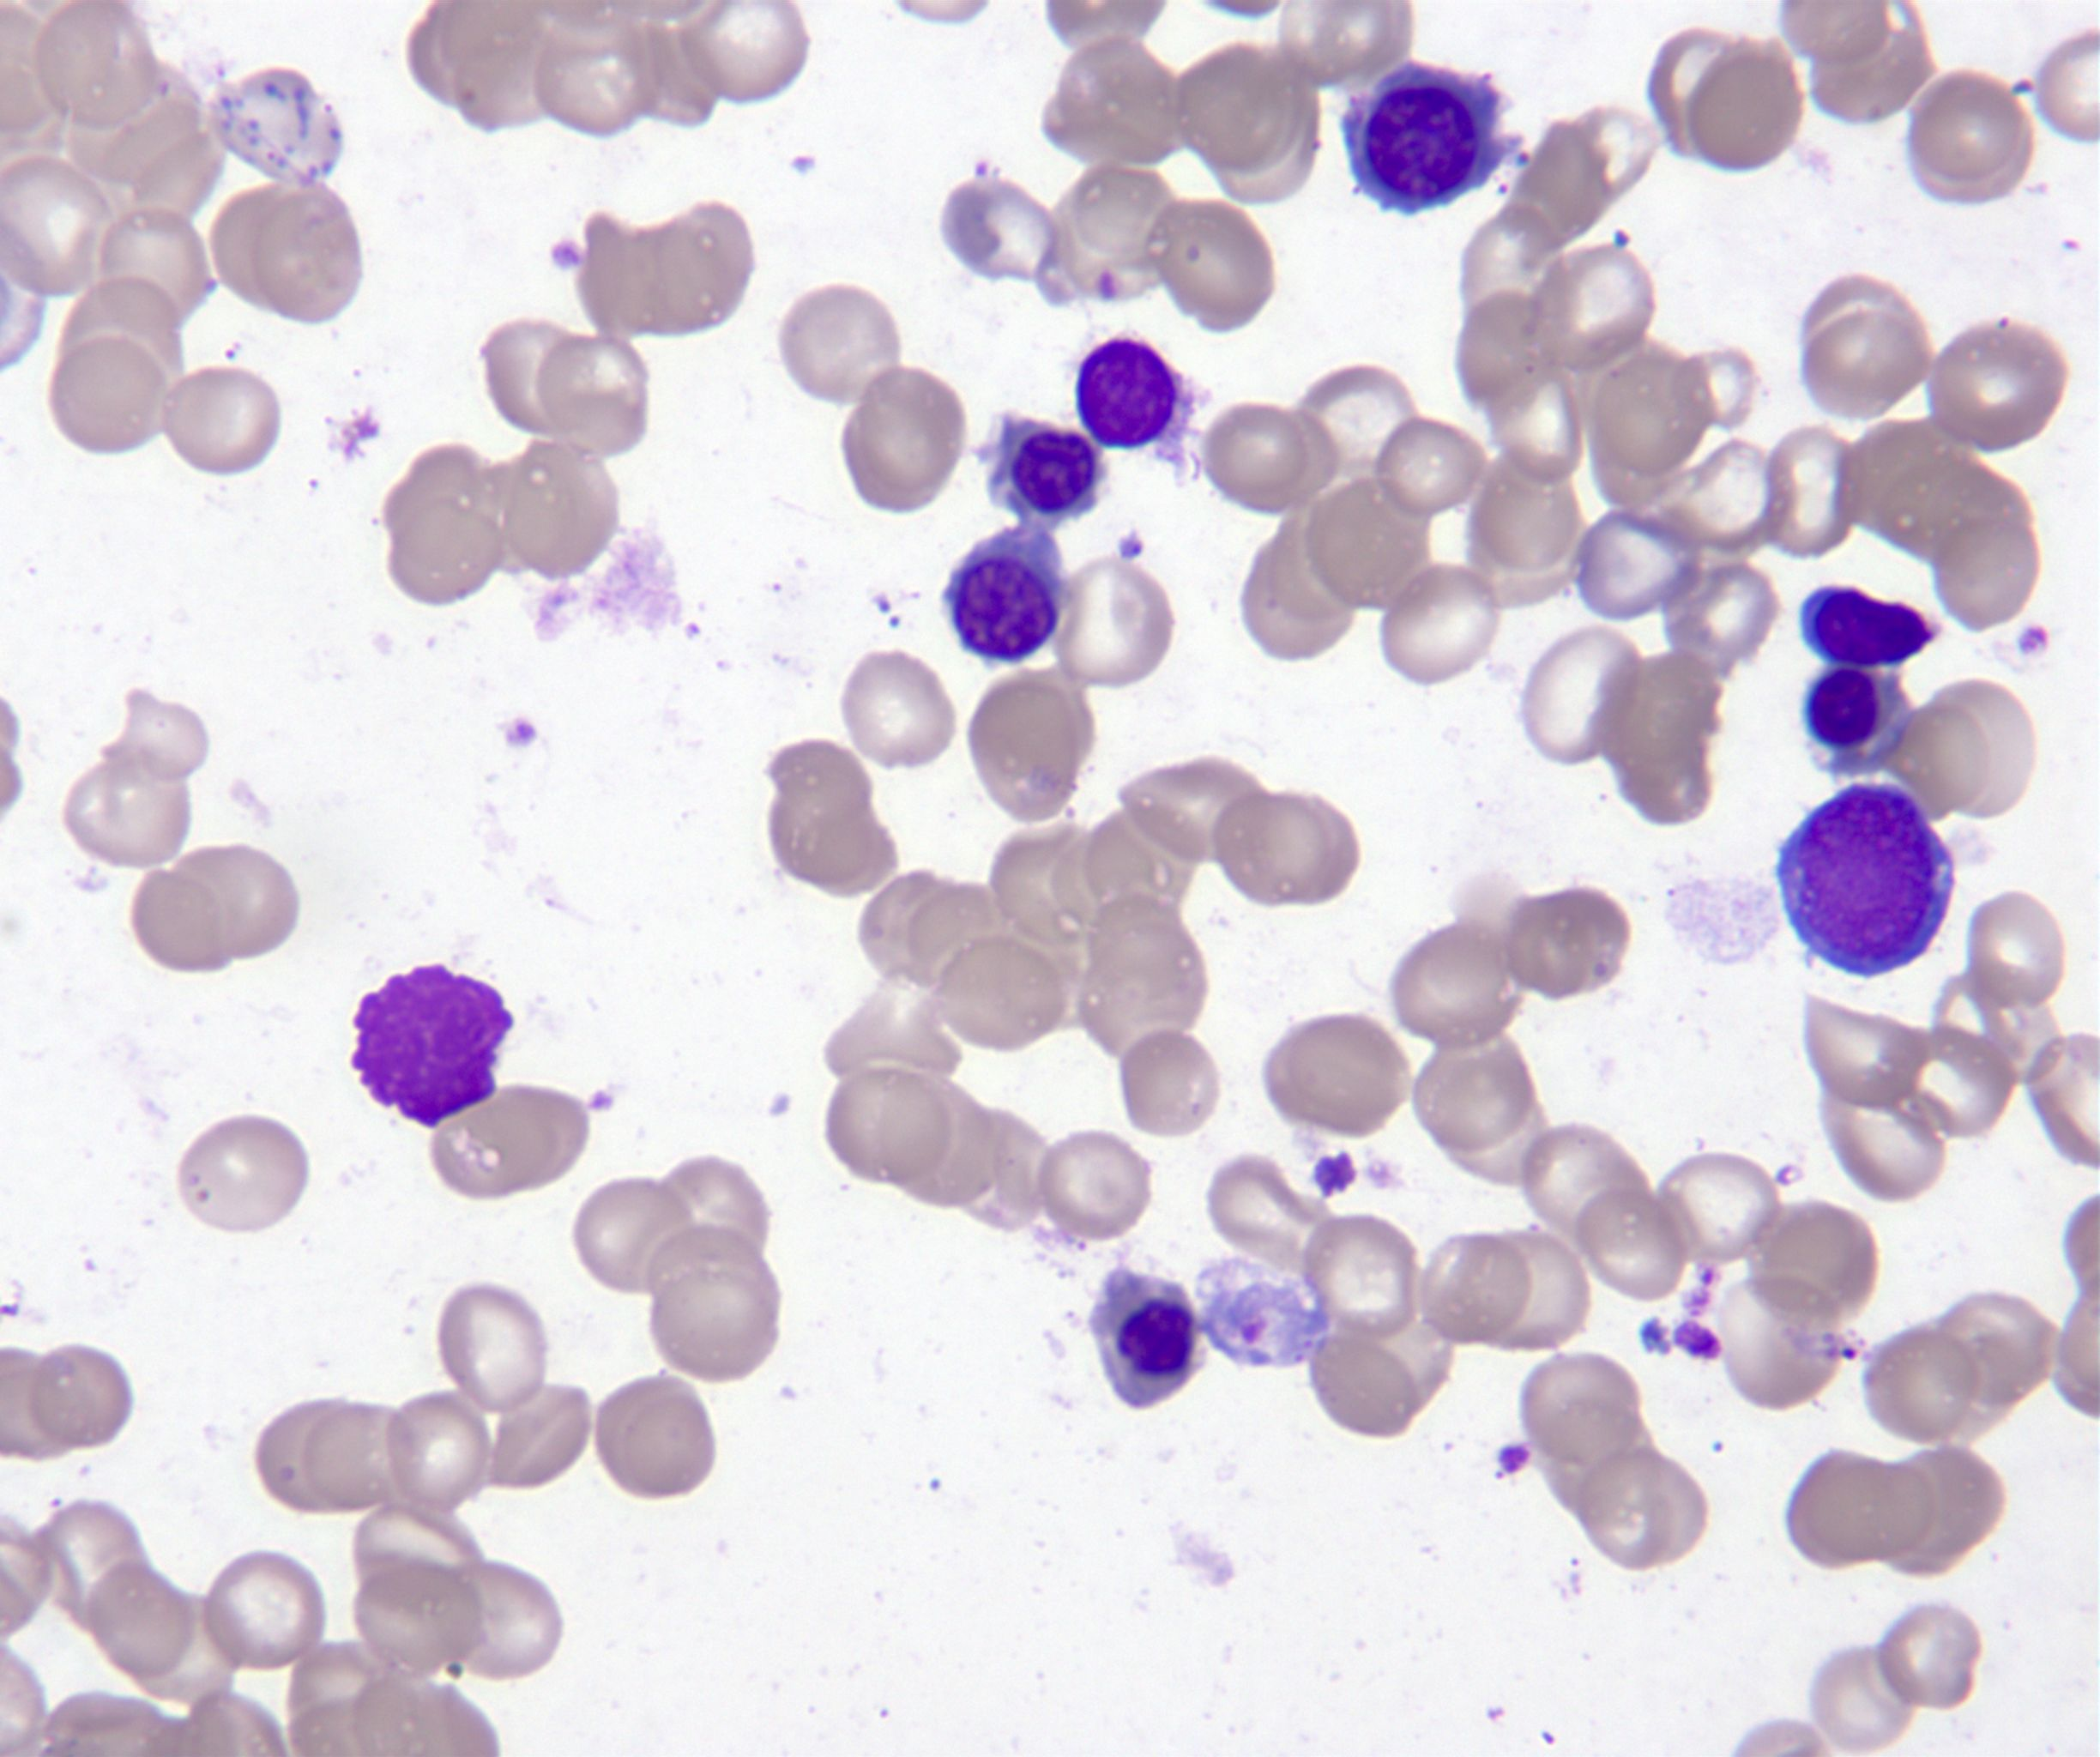1: (1777, 785, 1953, 977)
24: (1340, 63, 1528, 215), (944, 523, 1073, 670), (972, 410, 1108, 534), (1088, 1272, 1207, 1410), (1802, 668, 1912, 773)
32: (1074, 338, 1212, 485), (1802, 586, 1941, 672)
x: (351, 965, 513, 1127)
